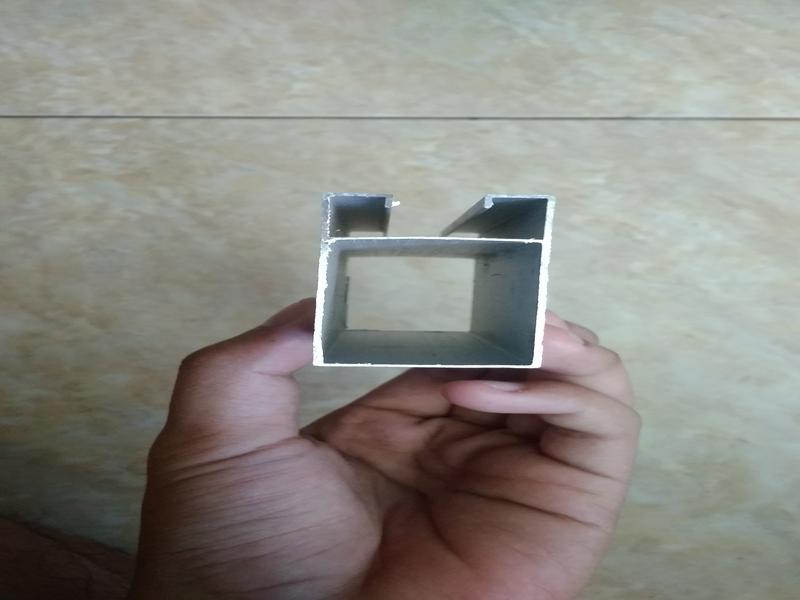Aluminium_1: (307, 170, 553, 383)
